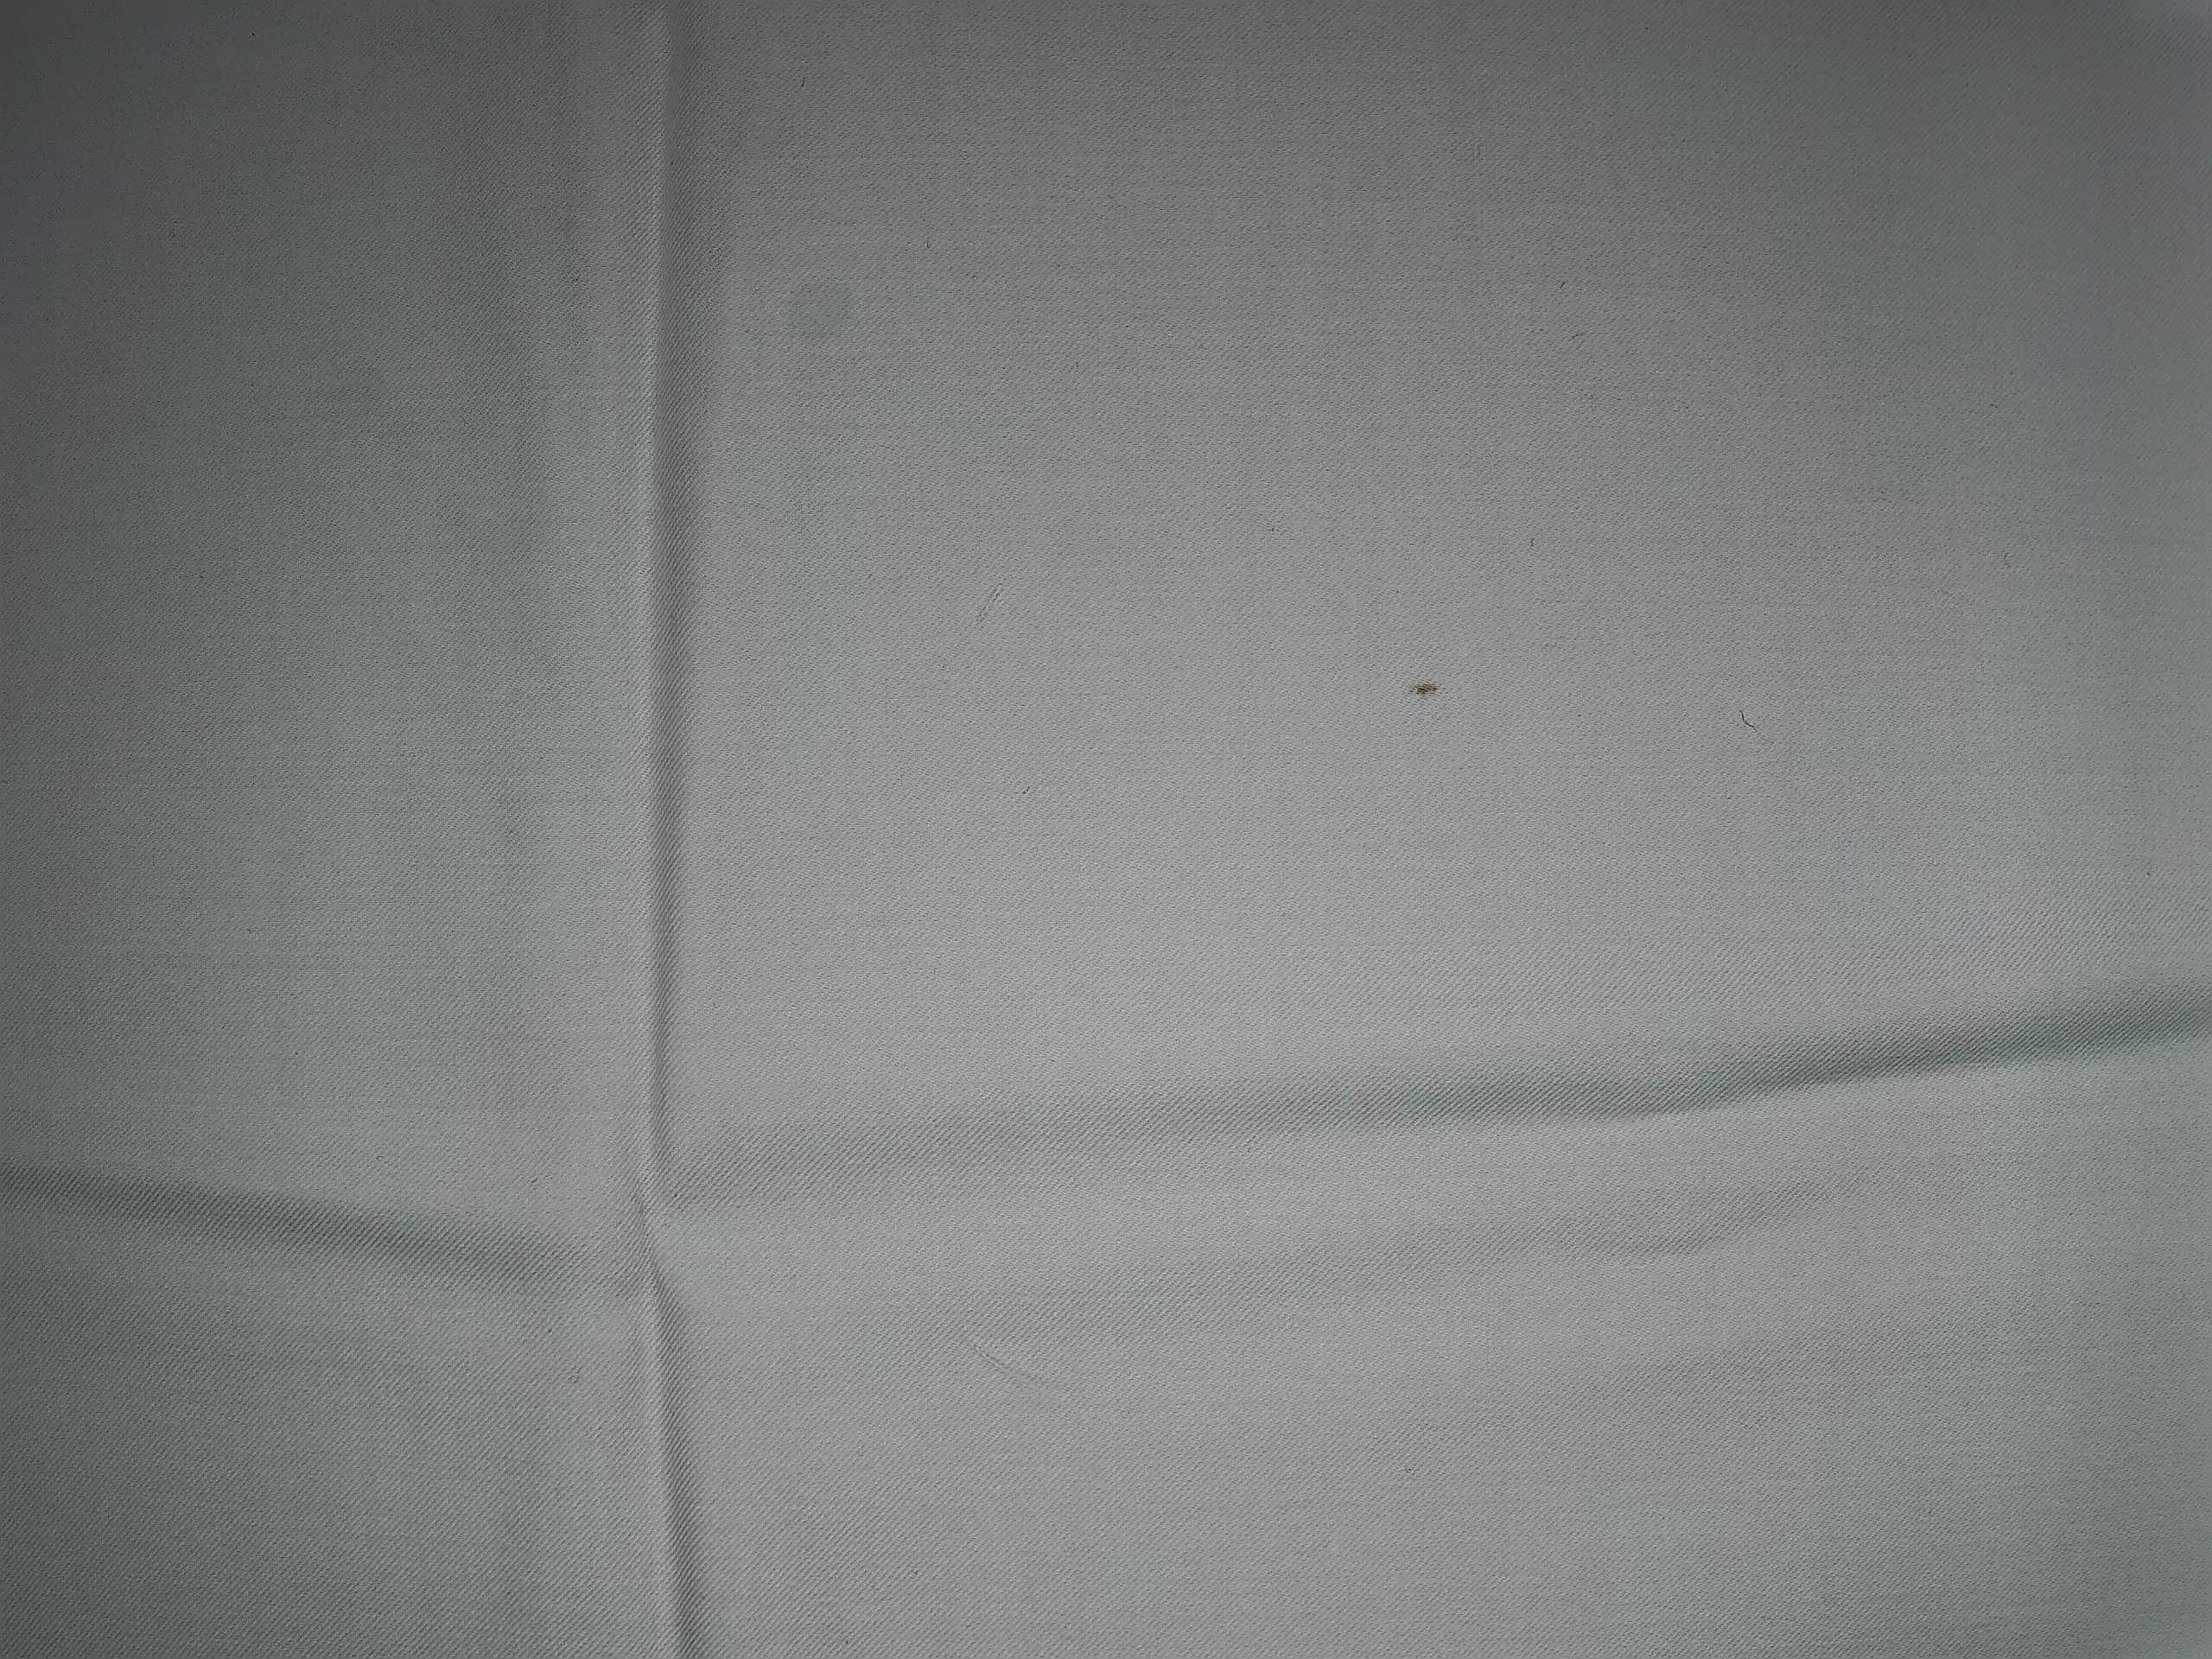others: (1397, 657, 1460, 721)
